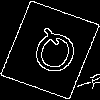Q: (25, 25, 83, 86)
